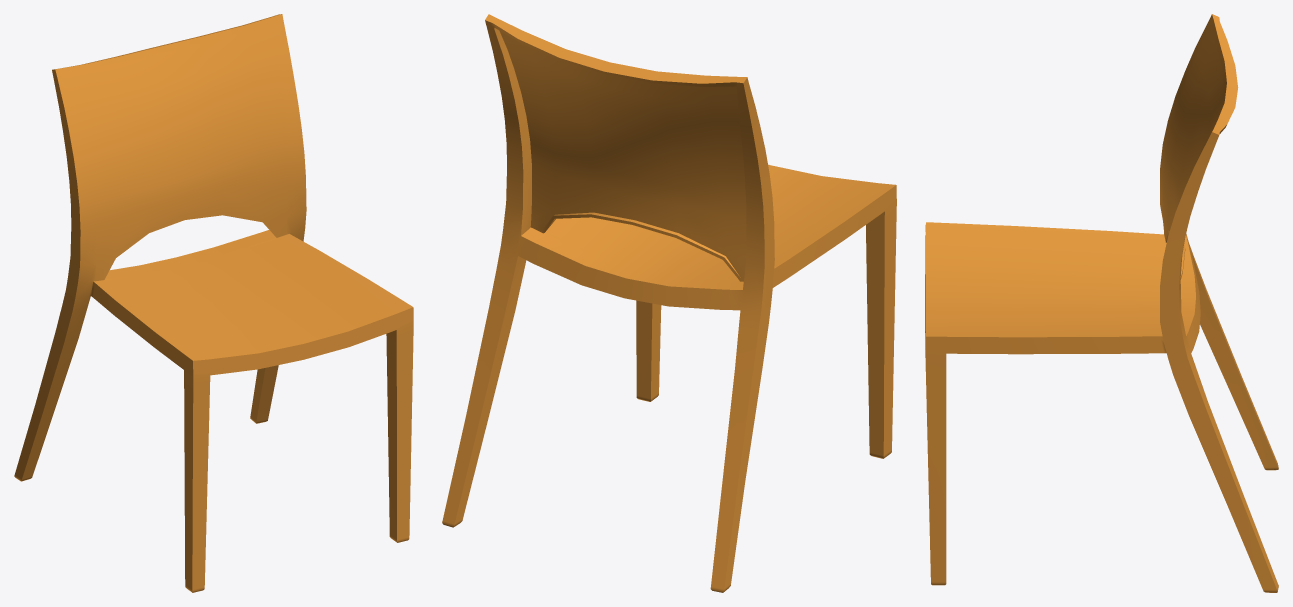
The model's file is Chair.fbx.
3 renders of one model, left to right at view 1: azimuth 30°, elevation 25°; view 2: azimuth 150°, elevation 25°; view 3: azimuth 270°, elevation 25°, orthographic. The views are drawn at different scales.
Visible parts, largest first — view 1: Chair; view 2: Chair; view 3: Chair.
Part boxes in pixels (x1,y1,x2,y2): Chair: (14,14,413,592); Chair: (442,14,896,592); Chair: (925,14,1278,592).
Bounding box in the file's own units: 49.07 × 81.2 × 57.06.
